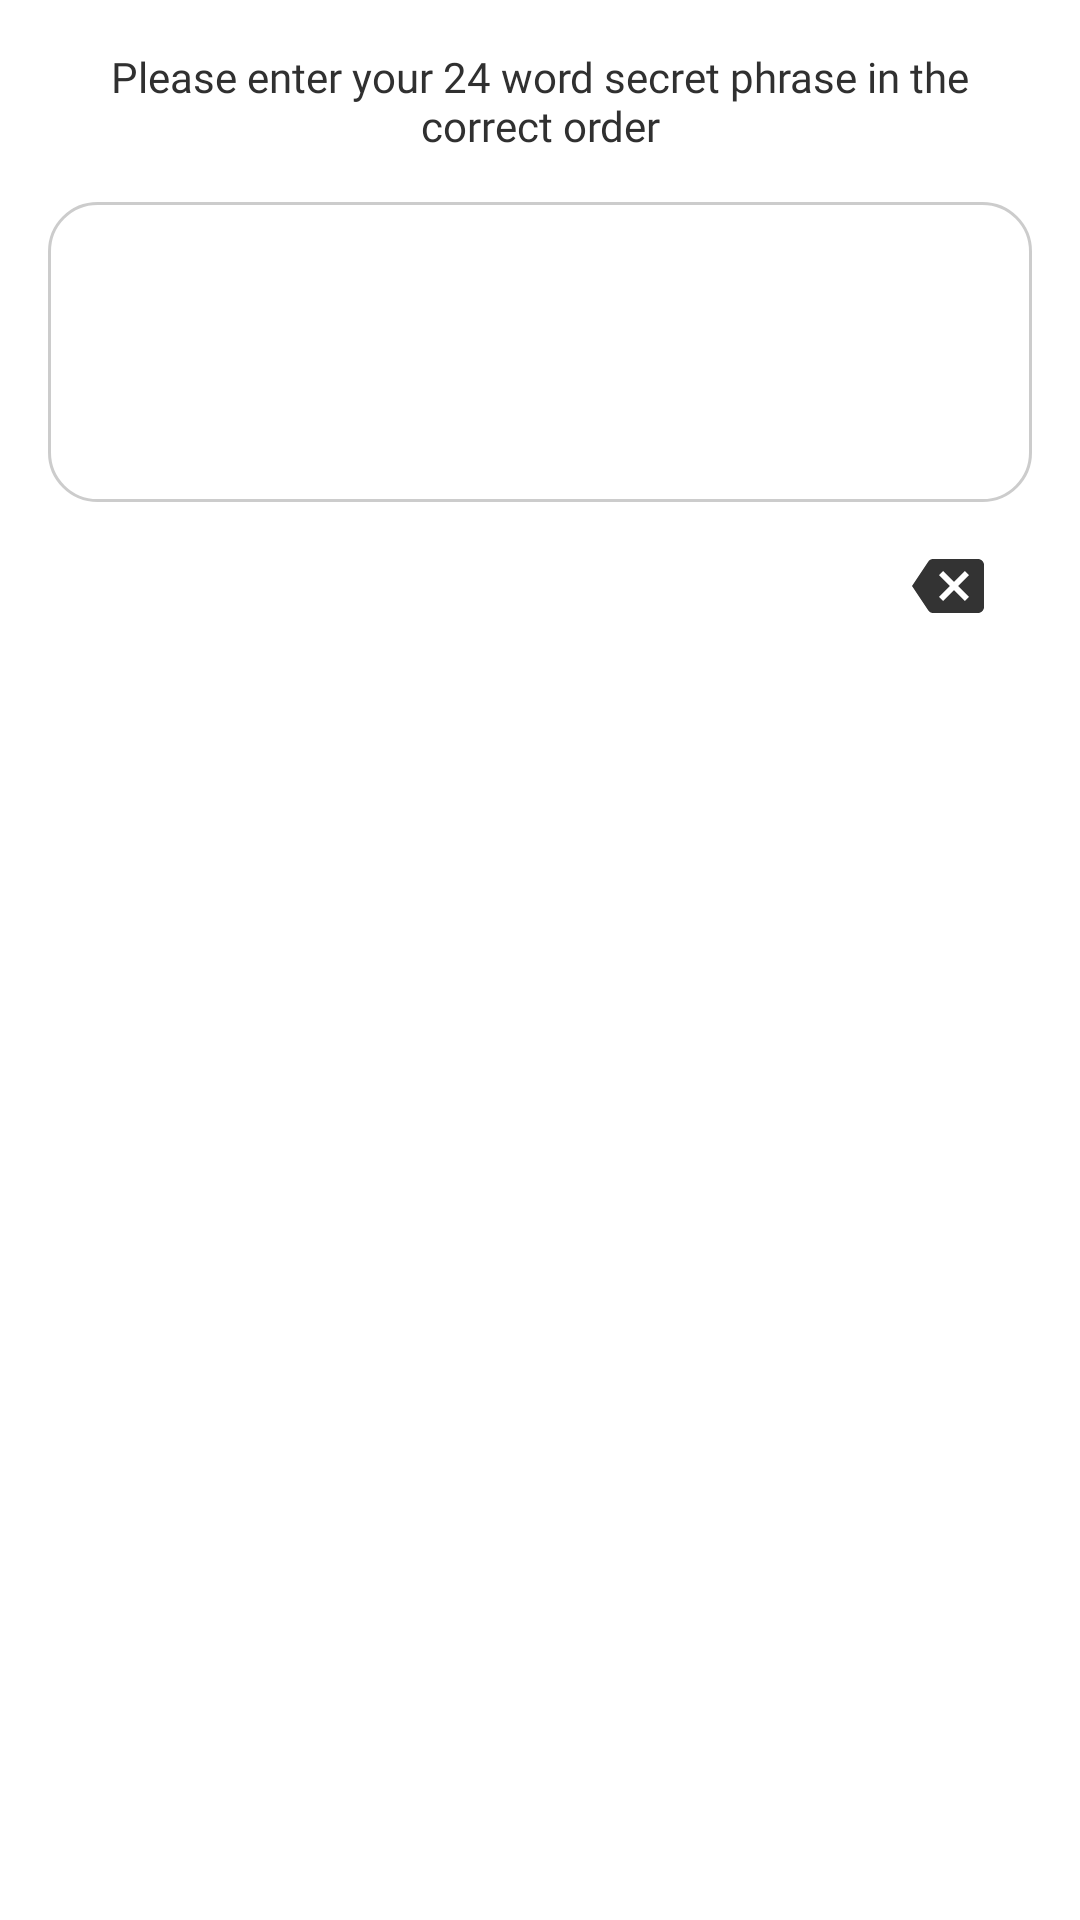

Locate icon controls on the screen. Image size 1080px×1920px, boxes as detection(x1, y1, x2, y2).
back space: detection(912, 559, 984, 613)
